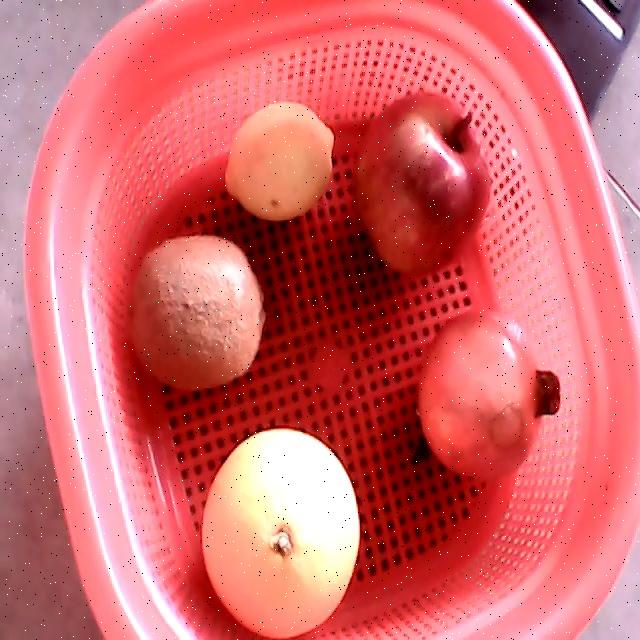apple: (351, 89, 493, 278)
kiwi: (126, 235, 264, 391)
lemon: (225, 101, 335, 221)
orange: (200, 429, 361, 639)
pomegranate: (417, 307, 561, 482)
